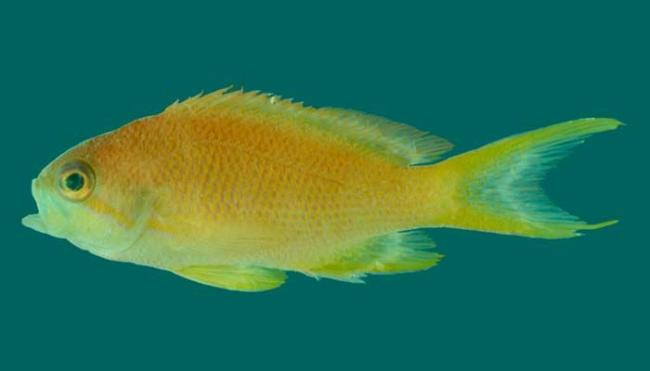fish: (20, 84, 629, 292)
